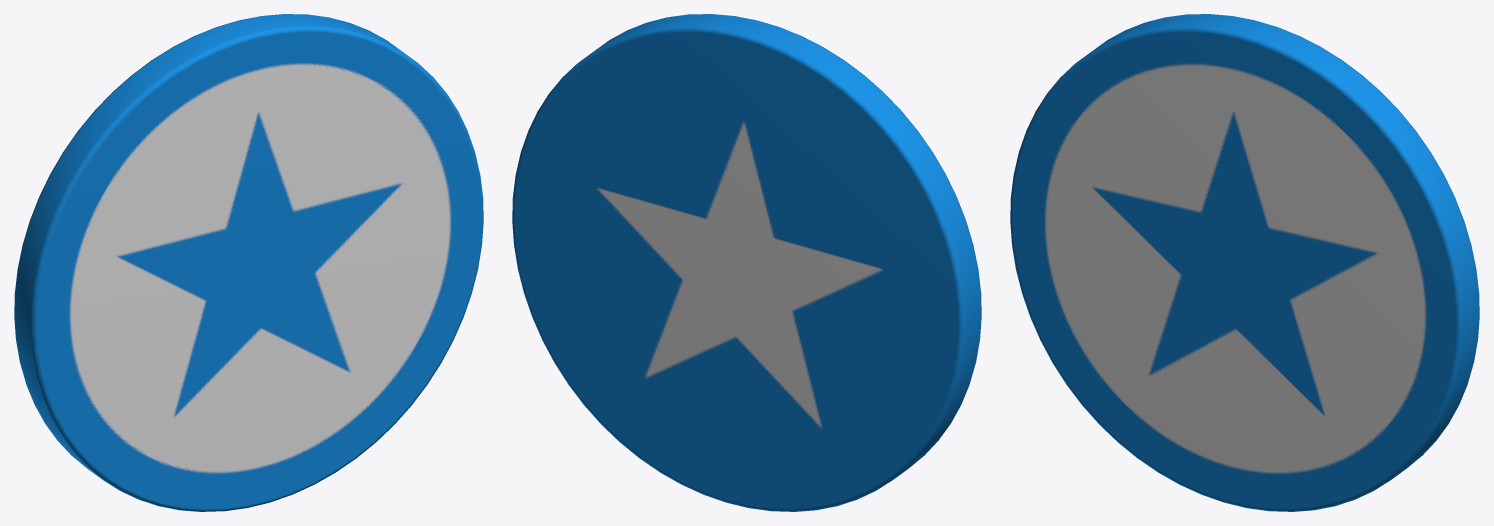
File: SM_Scoring_Tokens_2.fbx
3 renders of one model, left to right at view 1: azimuth 30°, elevation 25°; view 2: azimuth 150°, elevation 25°; view 3: azimuth 330°, elevation 25°, orthographic.
Parts seen in each view (by area): view 1: token_2; view 2: token_2; view 3: token_2.
Boxes of the visible parts, <box> form: token_2: <box>14,14,483,511</box>; token_2: <box>512,14,981,511</box>; token_2: <box>1010,14,1479,511</box>.
Size of the model in its own units: 5 by 5 by 0.4.
